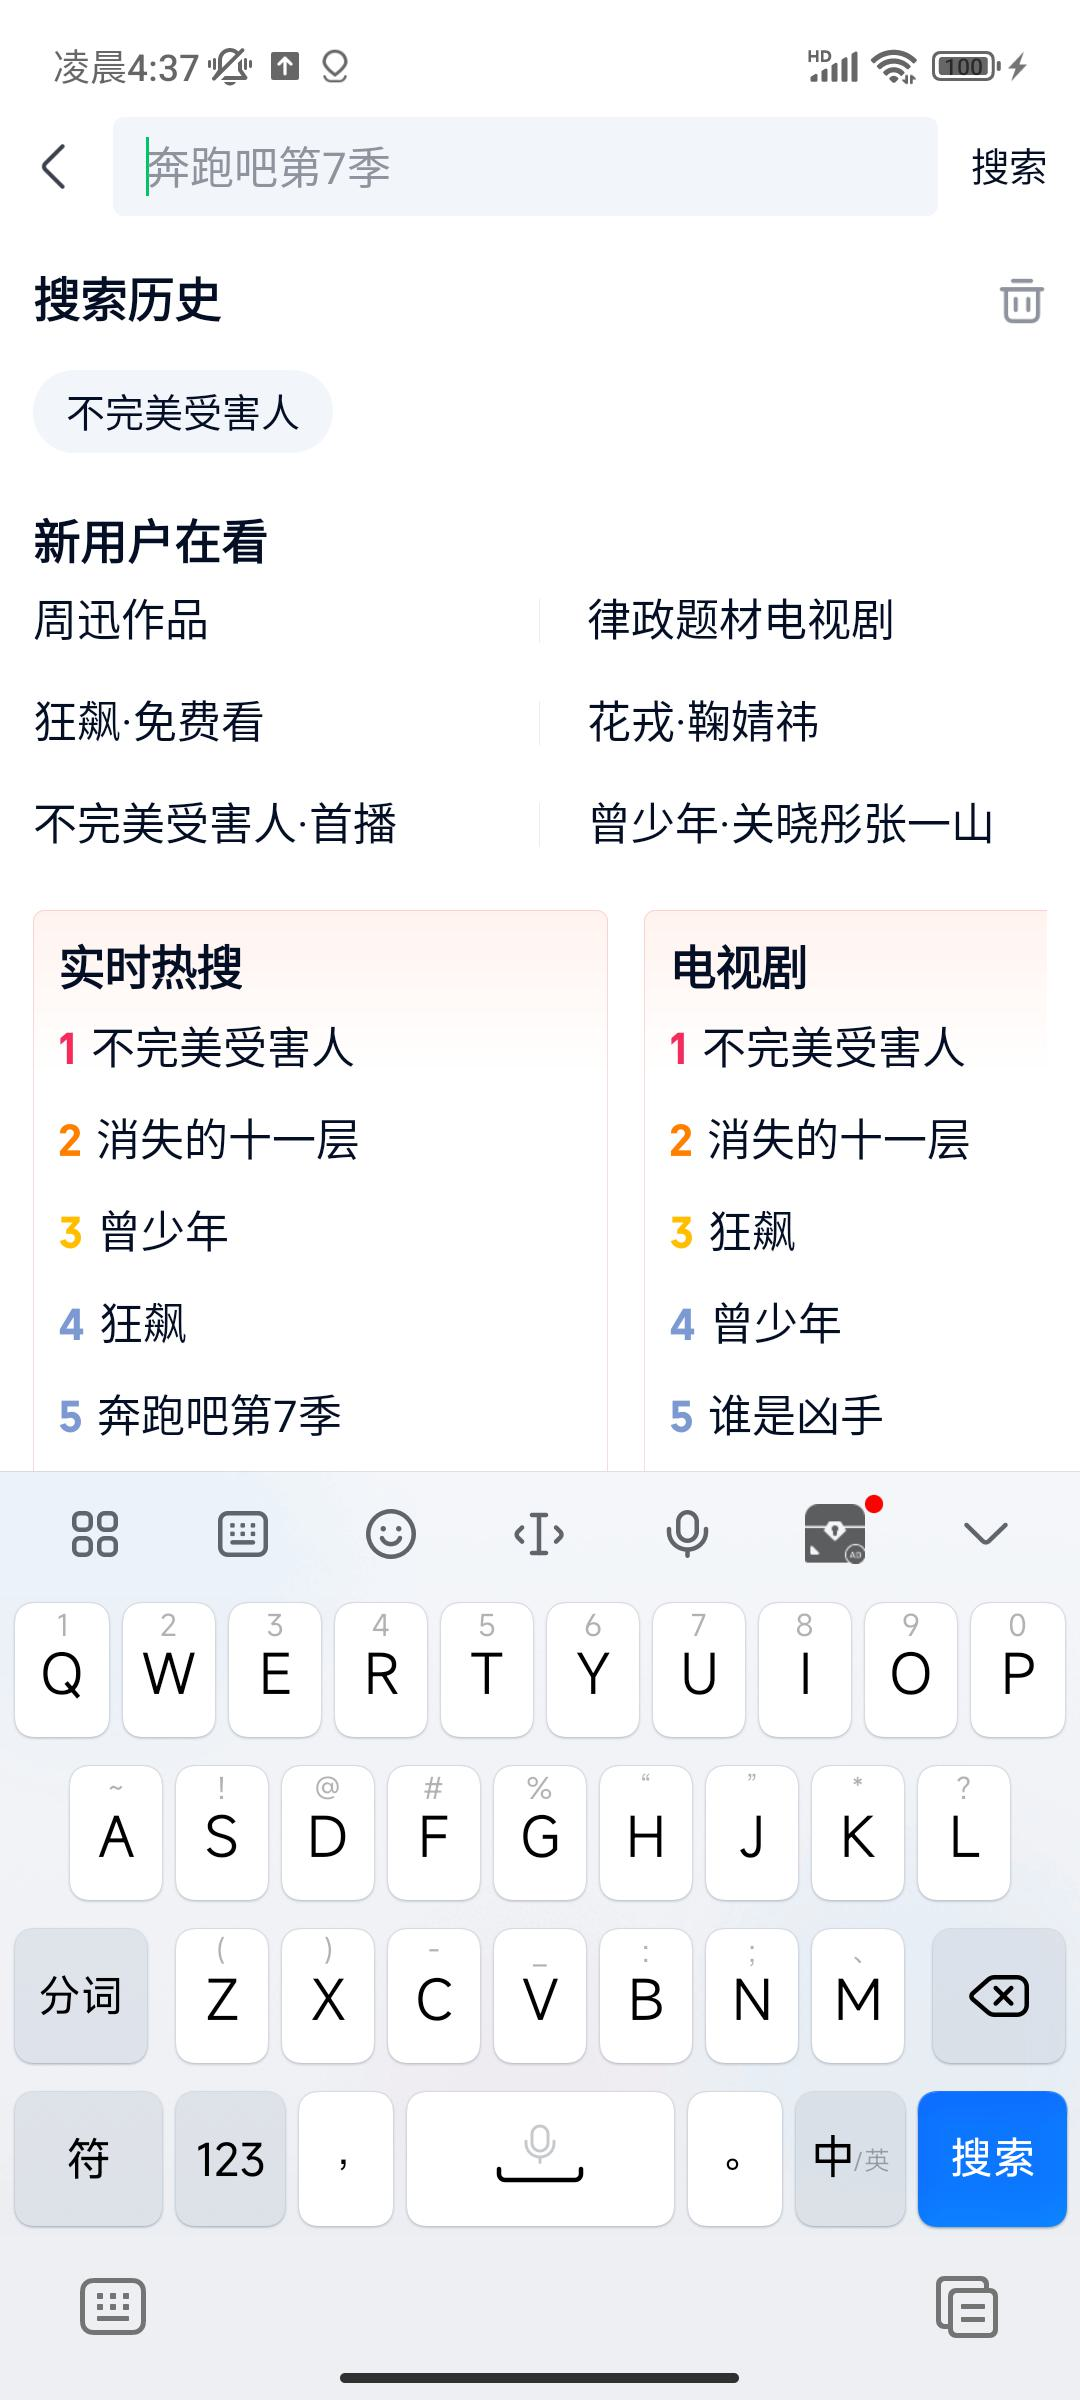ui_group: (34, 911, 610, 1474), (633, 911, 1056, 1465)
